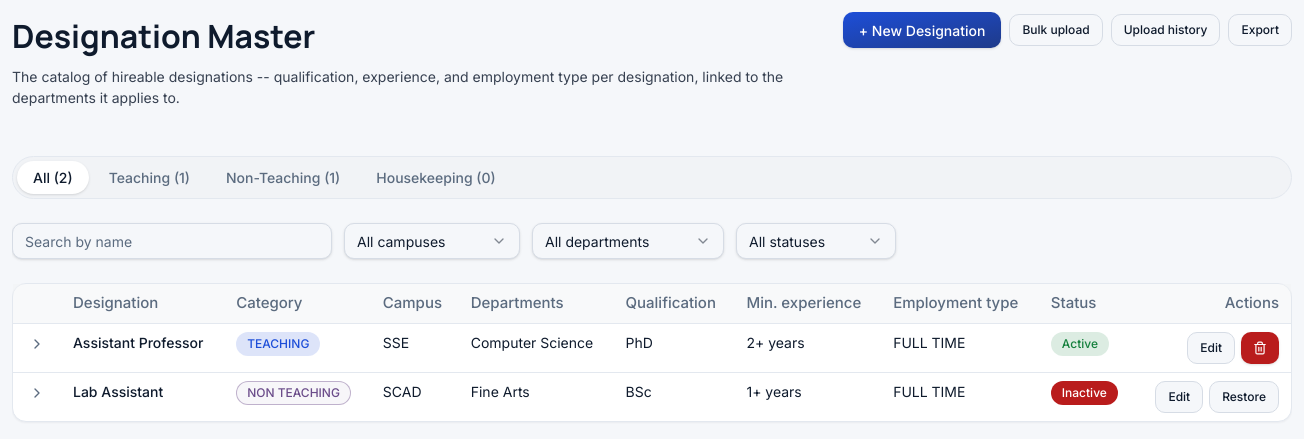
Test: DesignationsPage › Campus column and filter › filters rows by campus without refetching -- the filter is client-side
The width and height of the screenshot is (1304, 439).
Expected: the text "Assistant Professor" is shown, [61,323,224,372]
Expected: the text "Lab Assistant" is shown, [61,372,224,420]
Click the dropdown named "Campus filter": (432, 241) [344,223,520,259]
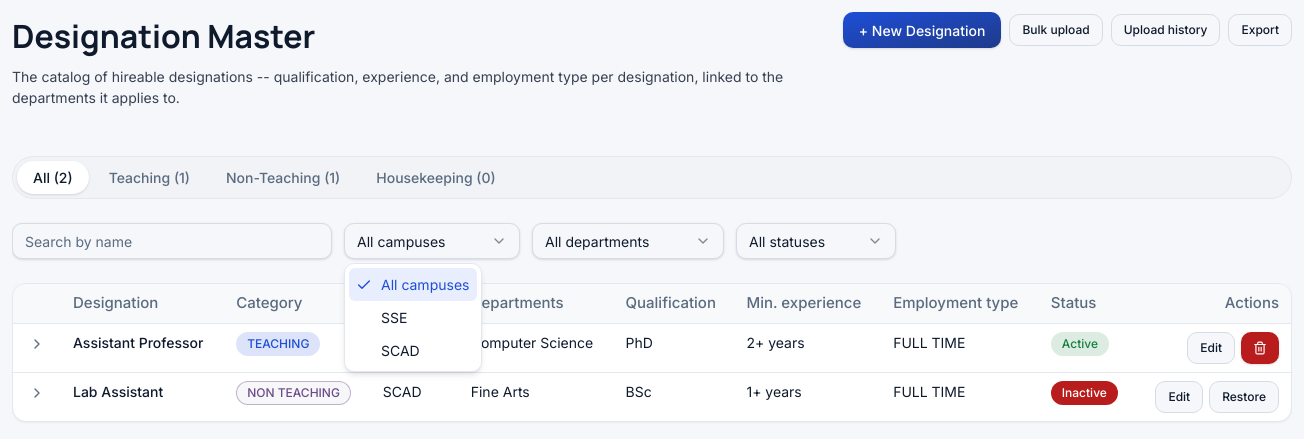
Click the option "SCAD": (400, 350) [381,342,420,359]
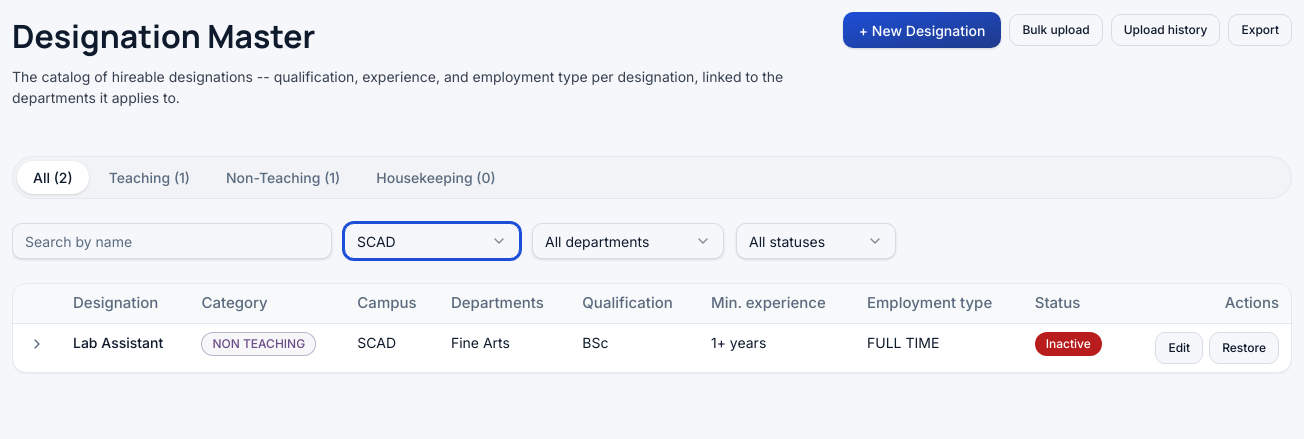
Expected: the text "Lab Assistant" is shown, [61,323,189,372]
Expected: the text "Assistant Professor" is gone
